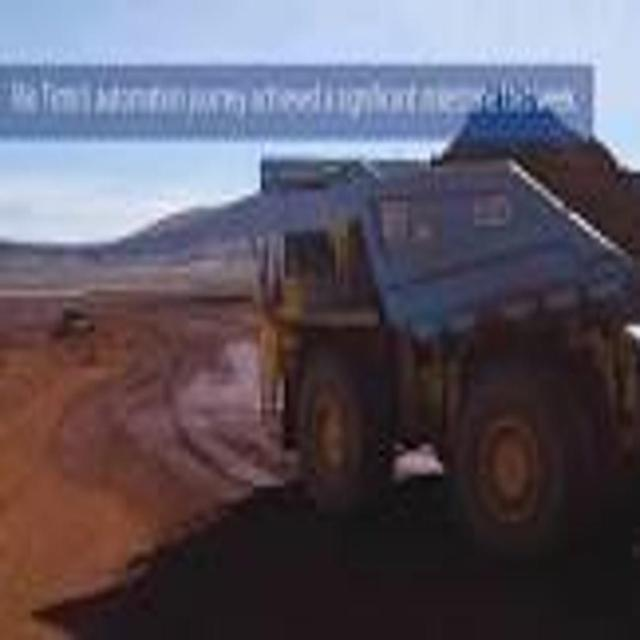dump_truck: (249, 110, 640, 532)
